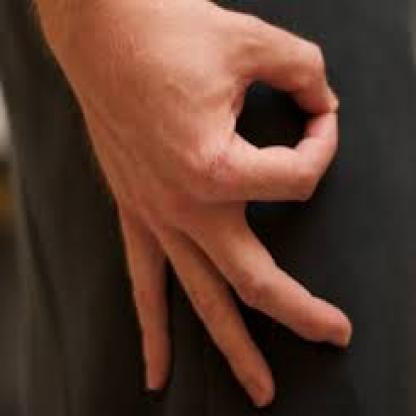ok: (66, 11, 356, 408)
